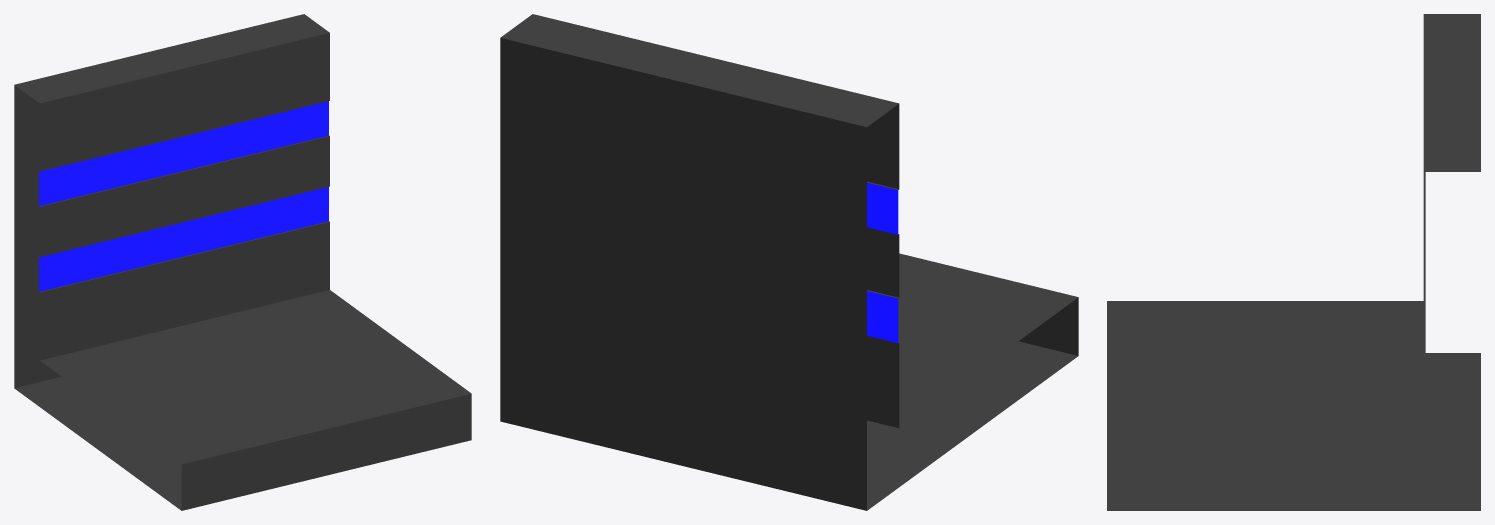
File: Tunnel_B.FBX
The picture shows the model from 3 angles, left to right: view 1: azimuth 30°, elevation 25°; view 2: azimuth 150°, elevation 25°; view 3: azimuth 270°, elevation 25°; orthographic projection. The views are drawn at different scales.
Visible parts, largest first — view 1: Tunnel_B; view 2: Tunnel_B; view 3: Tunnel_B.
Boxes of the visible parts, x1,y1,x2,y2 form: Tunnel_B: [14, 14, 471, 510]; Tunnel_B: [500, 14, 1078, 510]; Tunnel_B: [1107, 14, 1480, 510].
Size of the model in its own units: 180 by 180 by 180.
